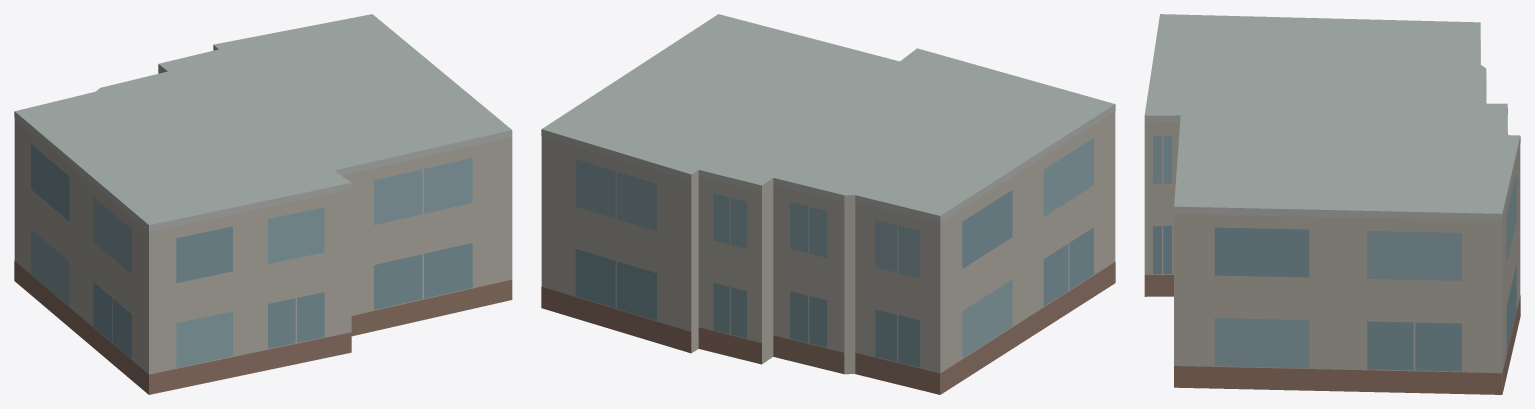
Rendered from survey-upis-32678185.glb.
3 renders of one model, left to right at view 1: azimuth 30°, elevation 25°; view 2: azimuth 150°, elevation 25°; view 3: azimuth 270°, elevation 25°, orthographic. The views are drawn at different scales.
Parts seen in each view (by area): view 1: survey-upis-32678185.tmp; view 2: survey-upis-32678185.tmp; view 3: survey-upis-32678185.tmp.
Boxes of the visible parts, left/top/right/bottom form: survey-upis-32678185.tmp: left=14, top=14, right=512, bottom=394; survey-upis-32678185.tmp: left=541, top=14, right=1115, bottom=394; survey-upis-32678185.tmp: left=1144, top=14, right=1520, bottom=394.
Bounding box in the file's own units: 14.45 × 6.1 × 11.49.
